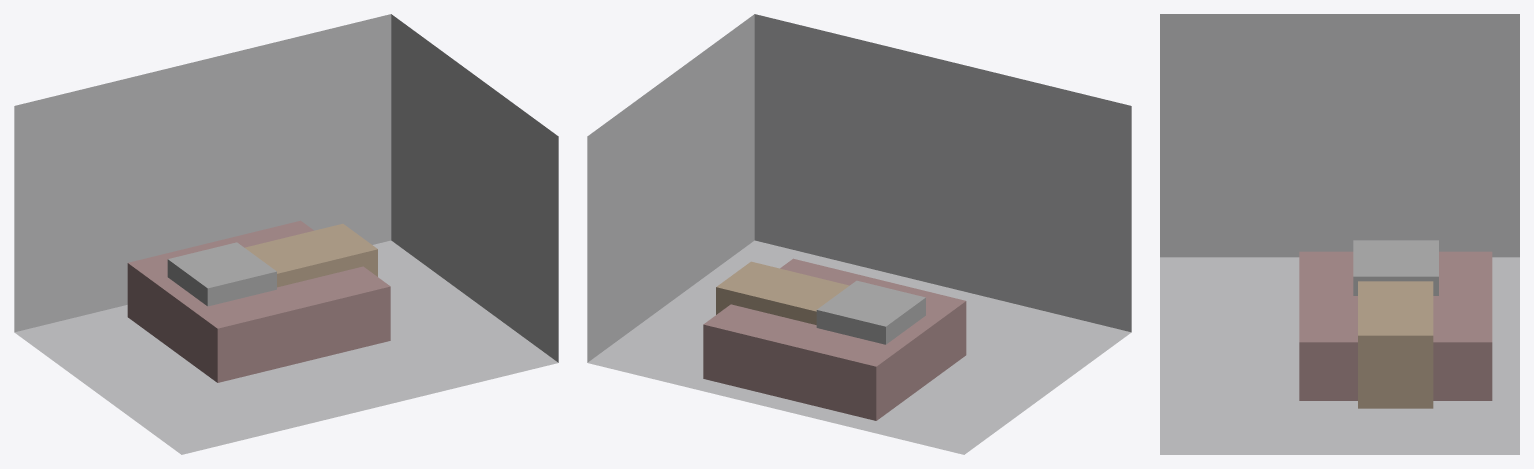
Rendered from optimised_layout.glb.
The picture shows the model from 3 angles, left to right: view 1: azimuth 30°, elevation 25°; view 2: azimuth 150°, elevation 25°; view 3: azimuth 270°, elevation 25°; orthographic projection. The views are drawn at different scales.
Visible parts, largest first — view 1: room, bed, desk, wardrobe; view 2: room, bed, desk, wardrobe; view 3: room, bed, desk, wardrobe.
Part boxes in pixels (left/top/right/bottom): room: left=14, top=14, right=558, bottom=454; bed: left=127, top=220, right=390, bottom=382; desk: left=245, top=223, right=377, bottom=287; wardrobe: left=167, top=242, right=276, bottom=306; room: left=587, top=14, right=1131, bottom=454; bed: left=703, top=258, right=966, bottom=420; desk: left=716, top=261, right=849, bottom=324; wardrobe: left=816, top=280, right=925, bottom=344; room: left=1160, top=14, right=1519, bottom=454; bed: left=1299, top=251, right=1492, bottom=400; desk: left=1358, top=281, right=1433, bottom=408; wardrobe: left=1353, top=240, right=1438, bottom=295.
Size of the model in its own units: 4.36 by 2.5 by 3.35.
